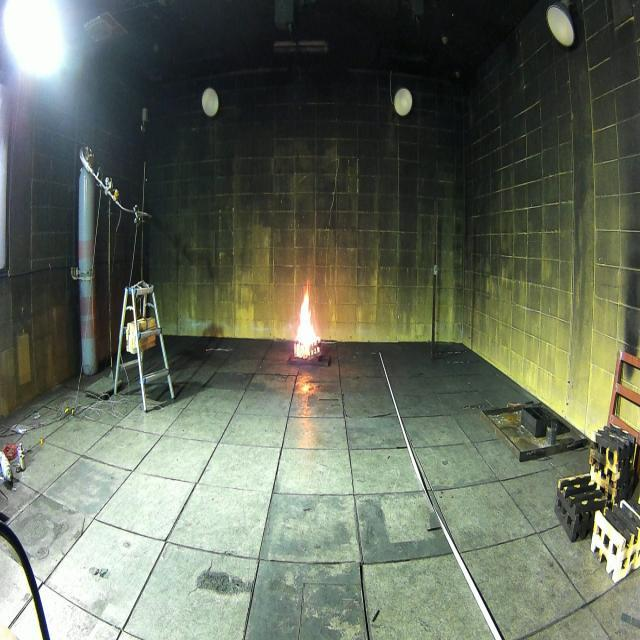Fire: (294, 278, 321, 358)
